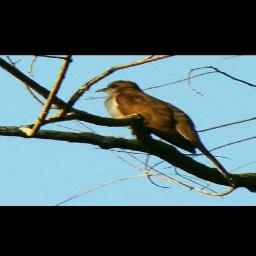Cuckoo: (95, 79, 199, 155)
